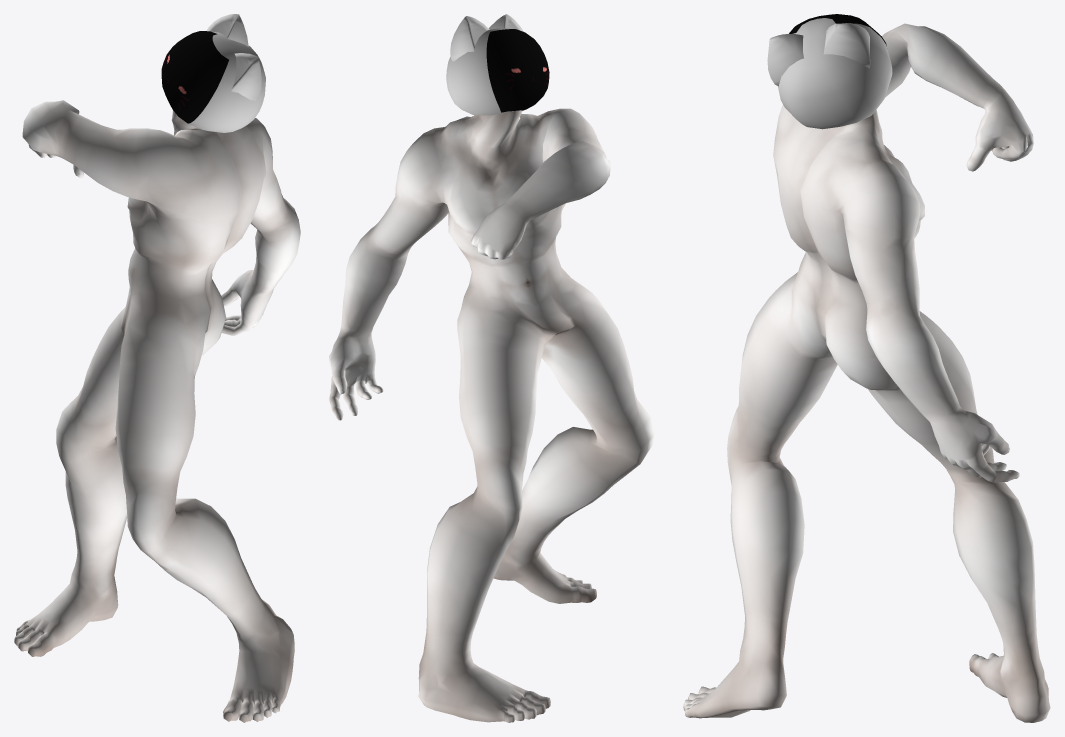
3 renders of one model, left to right at view 1: azimuth 30°, elevation 25°; view 2: azimuth 150°, elevation 25°; view 3: azimuth 270°, elevation 25°, orthographic. The views are drawn at different scales.
Visible parts, largest first — view 1: Muscle_Body, Cat_Head, ______?001; view 2: Muscle_Body, ______?001, Cat_Head; view 3: Muscle_Body, Cat_Head.
Part boxes in pixels (x1,y1,x2,y2): Muscle_Body: (14, 100, 300, 722); Cat_Head: (189, 14, 265, 132); ______?001: (161, 31, 228, 123); Muscle_Body: (329, 108, 654, 722); ______?001: (486, 29, 549, 112); Cat_Head: (446, 14, 524, 115); Muscle_Body: (683, 23, 1050, 722); Cat_Head: (767, 18, 892, 129).
Size of the model in its own units: 12.04 by 27.87 by 12.78.
